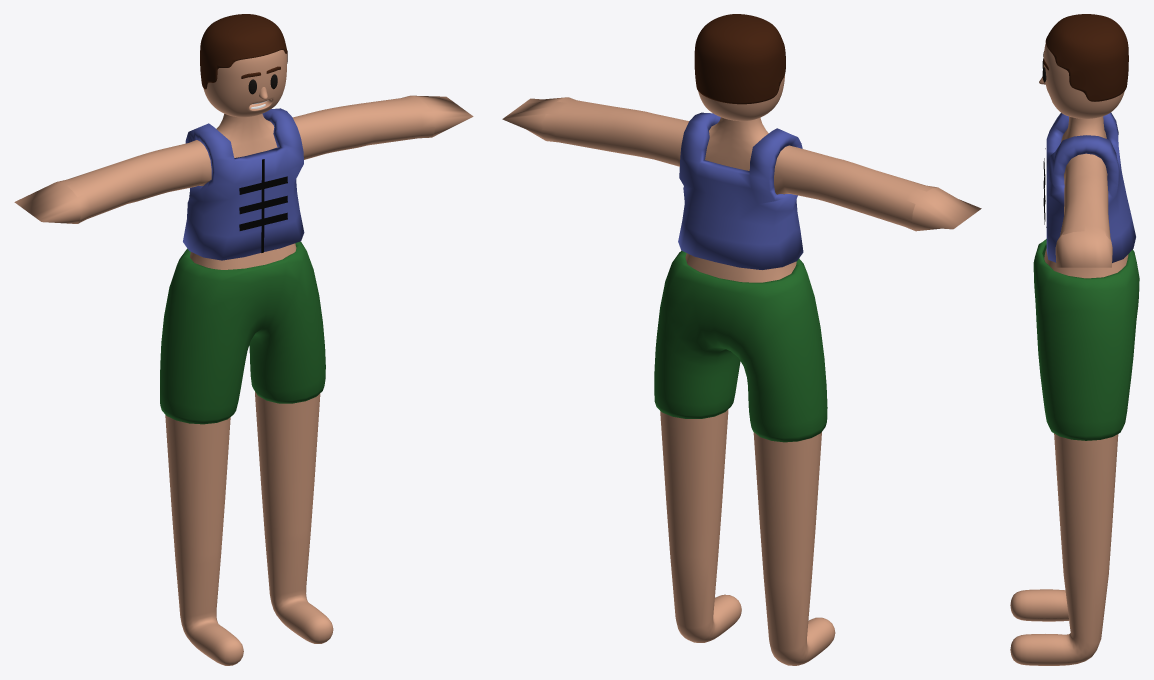
The model's file is NPC kid(green shorts).fbx.
3 renders of one model, left to right at view 1: azimuth 30°, elevation 25°; view 2: azimuth 150°, elevation 25°; view 3: azimuth 270°, elevation 25°, orthographic. The views are drawn at different scales.
Visible parts, largest first — view 1: body, SHORTS, body.001, Cube.005, Cube; view 2: body, SHORTS, body.001, Cube.005, Cube; view 3: body, SHORTS, body.001, Cube.005, Cube.
Part boxes in pixels (x1,y1,x2,y2): body: (14, 95, 473, 665); SHORTS: (160, 241, 325, 424); body.001: (183, 108, 304, 260); Cube.005: (200, 14, 287, 89); Cube: (203, 50, 286, 117); body: (502, 97, 981, 665); SHORTS: (654, 250, 827, 442); body.001: (678, 112, 803, 269); Cube.005: (694, 14, 785, 104); Cube: (698, 75, 784, 121); body: (1010, 116, 1128, 665); SHORTS: (1033, 239, 1139, 440); body.001: (1046, 112, 1135, 262); Cube.005: (1045, 14, 1128, 101); Cube: (1043, 43, 1124, 118).
Bounding box in the file's own units: 148 × 200 × 37.71.
